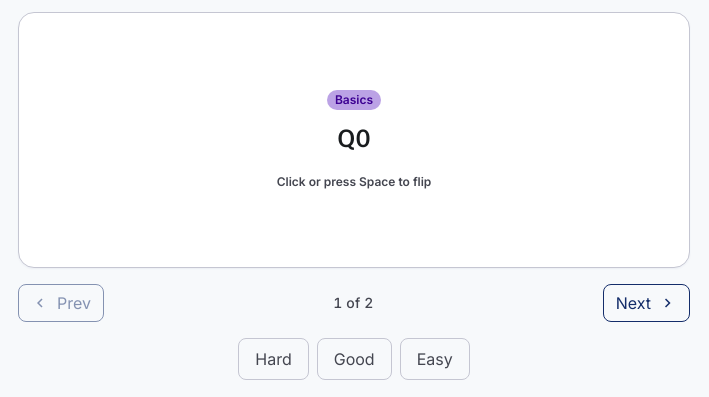
Test case: FlashcardsViewer › shows the front, flips on click, and gates Prev at the start
Expected: the text "Q0" is shown, [337,122,371,154]
Expected: the text "Basics" is shown, [327,90,381,110]
Click the button with test id "btn-fc1": (354, 140) [18,12,690,268]
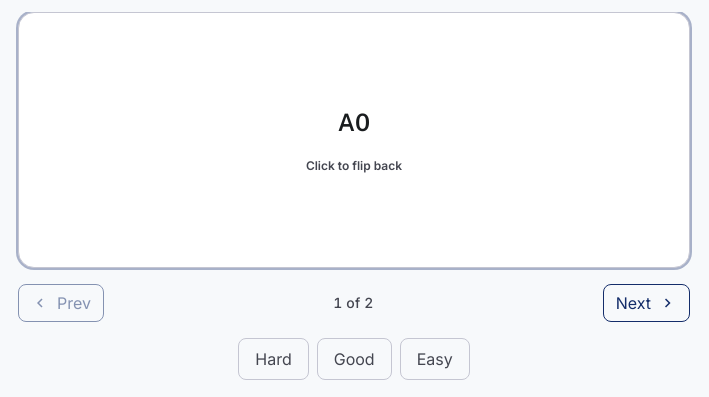
Now the text "A0" is shown, box [338,106,370,138]
